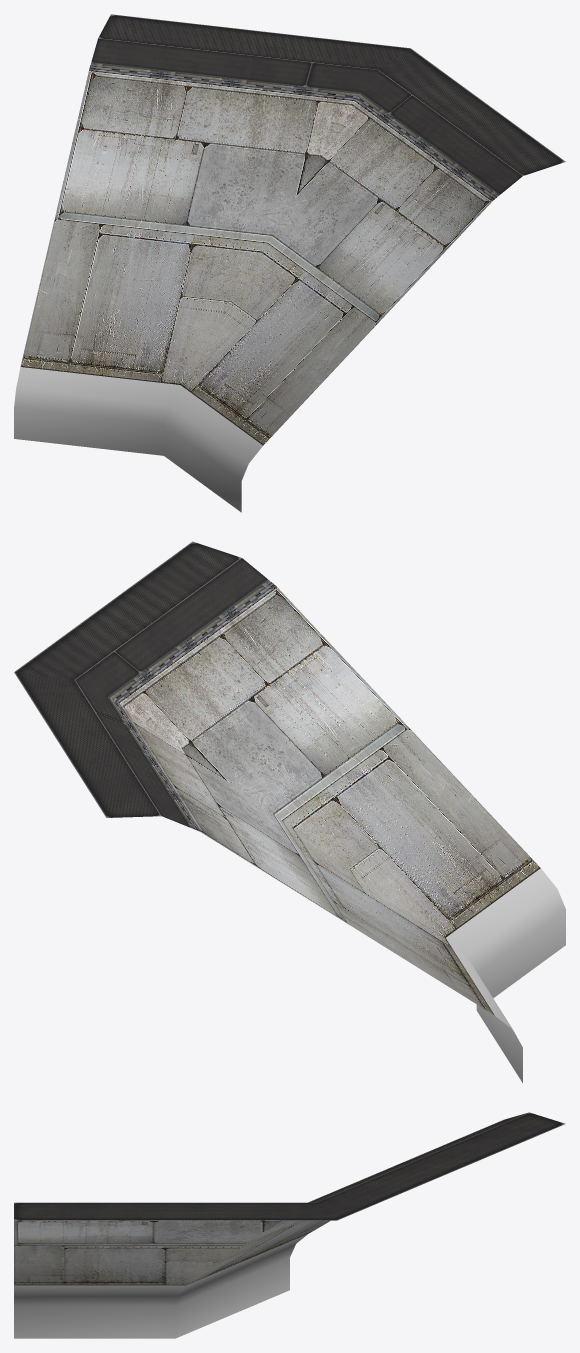
File: Roof_A_Big4mts00.fbx
3 views of the same model, one above another, from view 1: azimuth 30°, elevation 25°; view 2: azimuth 150°, elevation 25°; view 3: azimuth 270°, elevation 25° (orthographic). The views are drawn at different scales.
Parts seen in each view (by area): view 1: Roof_A_Big4mts00; view 2: Roof_A_Big4mts00; view 3: Roof_A_Big4mts00.
Part boxes in pixels (<box>): Roof_A_Big4mts00: <box>14,14,565,512</box>; Roof_A_Big4mts00: <box>14,541,565,1082</box>; Roof_A_Big4mts00: <box>14,1112,565,1338</box>.
Bounding box in the file's own units: 646 × 400 × 707.
